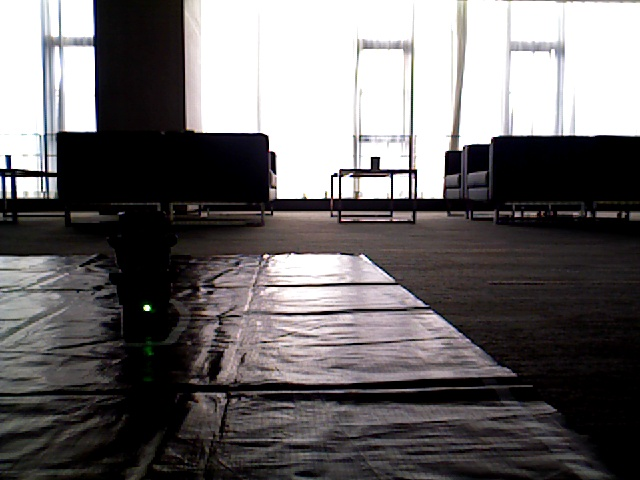green: (125, 220, 172, 327)
